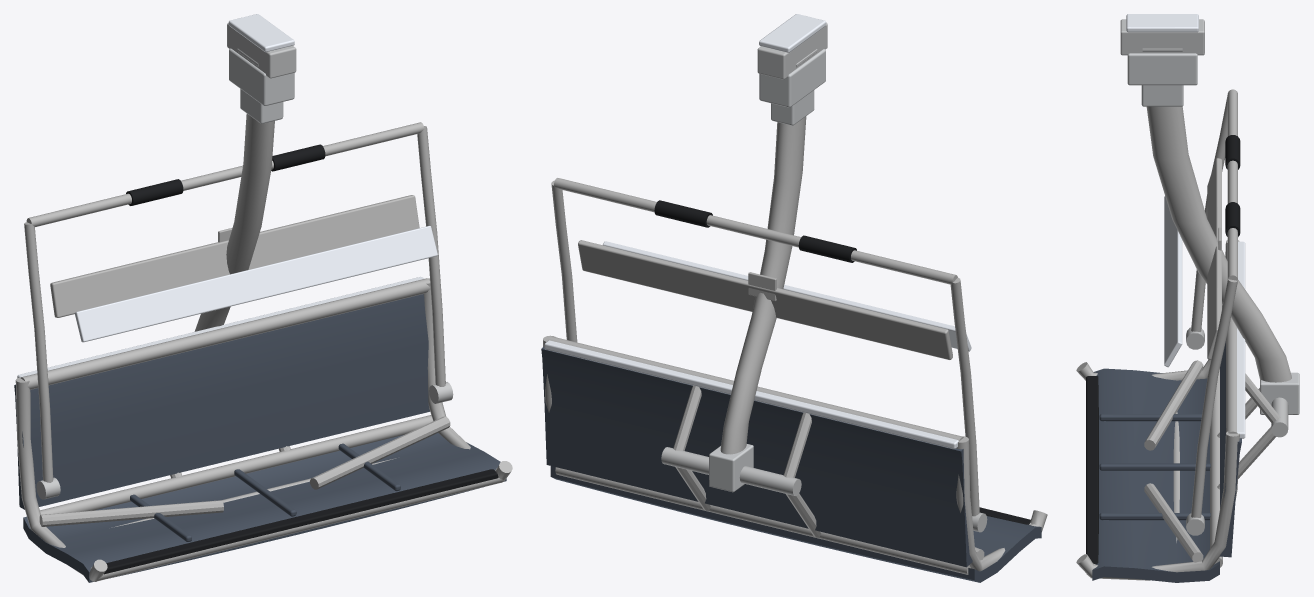
Rendered from ChairliftChair.fbx.
3 views of the same model, side by side, from view 1: azimuth 30°, elevation 25°; view 2: azimuth 150°, elevation 25°; view 3: azimuth 270°, elevation 25° (orthographic). The views are drawn at different scales.
Visible parts, largest first — view 1: ChairliftChair; view 2: ChairliftChair; view 3: ChairliftChair.
Part boxes in pixels (x1,y1,x2,y2): ChairliftChair: (14,14,512,582); ChairliftChair: (541,14,1047,582); ChairliftChair: (1076,14,1299,582).
Bounding box in the file's own units: 2 × 2.2 × 0.954.
